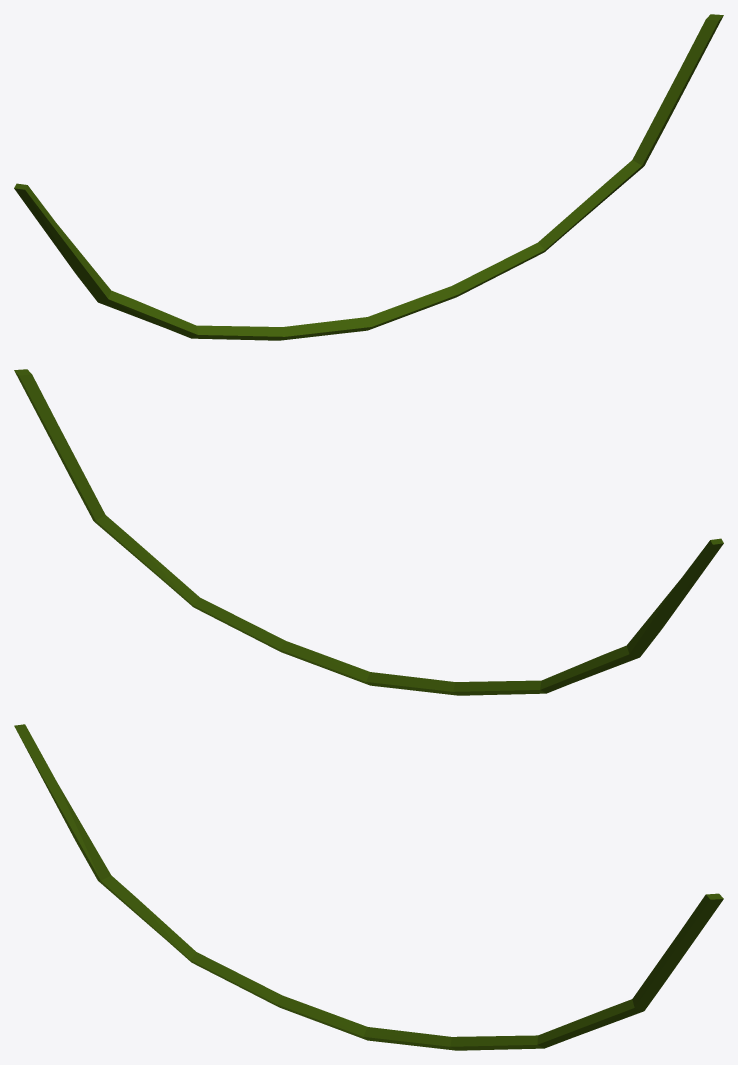
File: Prop_Vegetation_Jungle_Vine_Hanging_02.FBX
3 renders of one model, top to bottom at view 1: azimuth 30°, elevation 25°; view 2: azimuth 150°, elevation 25°; view 3: azimuth 330°, elevation 25°, orthographic.
Visible parts, largest first — view 1: Prop_Vegetation_Jungle_Vine_Hanging_02; view 2: Prop_Vegetation_Jungle_Vine_Hanging_02; view 3: Prop_Vegetation_Jungle_Vine_Hanging_02.
Part boxes in pixels (box(x1,y1,x2,y2)): Prop_Vegetation_Jungle_Vine_Hanging_02: box(14, 14, 723, 340); Prop_Vegetation_Jungle_Vine_Hanging_02: box(14, 369, 723, 695); Prop_Vegetation_Jungle_Vine_Hanging_02: box(14, 724, 723, 1050).
Bounding box in the file's own units: 4456 × 1371 × 92.73.
